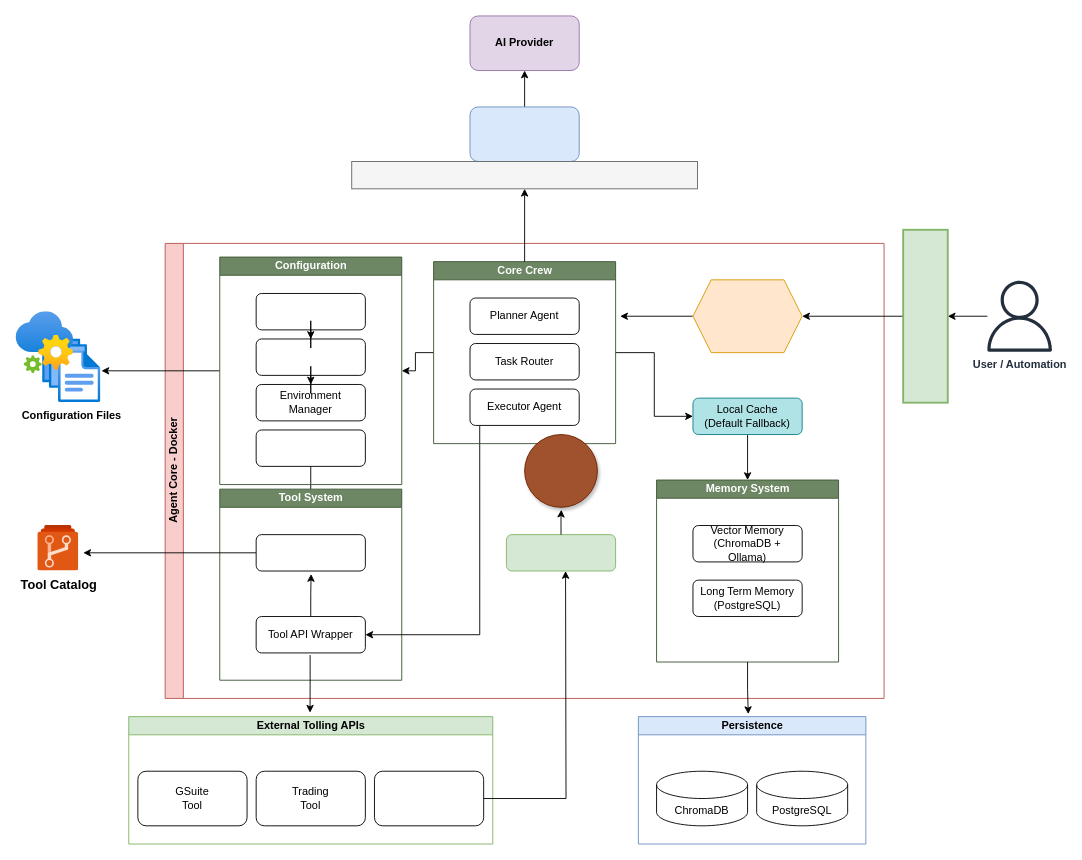
This 1082x860 diagram has some shape labels left out. The shapes that lost their labels are listed below. From the top down, each one's centre as x and y in pixels, then its label:
pixel 524 134: PORTKEY
pixel 524 175: https://portkey.ai/docs/integrations/agents/crewai
pixel 310 311: YAML Loader
pixel 747 316: API
pixel 925 315: Front-door
pixel 310 356: Hot Reload
pixel 310 447: Config Validation
pixel 561 472: Crew Manager
pixel 310 552: Tool Registry
pixel 561 552: Response Validator
pixel 429 798: Finance Tool
